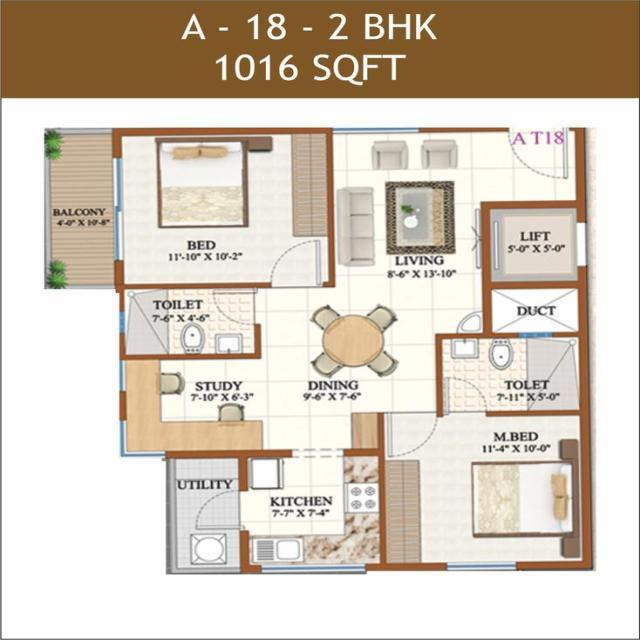Bedroom: (119, 134, 327, 285)
Bedroom with Toilet: (381, 333, 582, 564)
Dining: (303, 300, 408, 383)
Enterance-Foyer: (507, 129, 571, 187)
Kitchen: (248, 457, 374, 564)
Living: (333, 132, 576, 285)
Toilet: (441, 340, 577, 412), (123, 288, 253, 356)
Utility: (171, 456, 239, 568)
